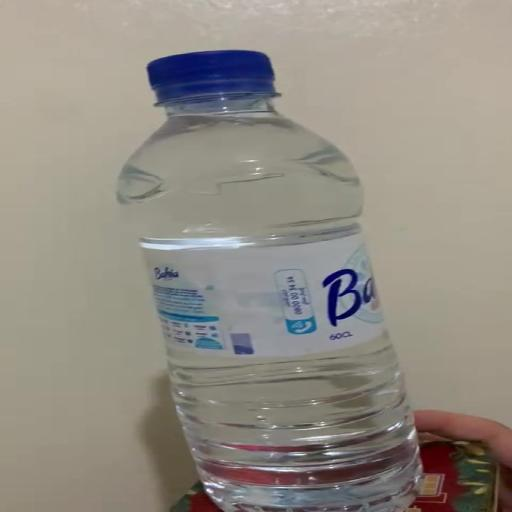bouteille conformite: (118, 51, 420, 511)
